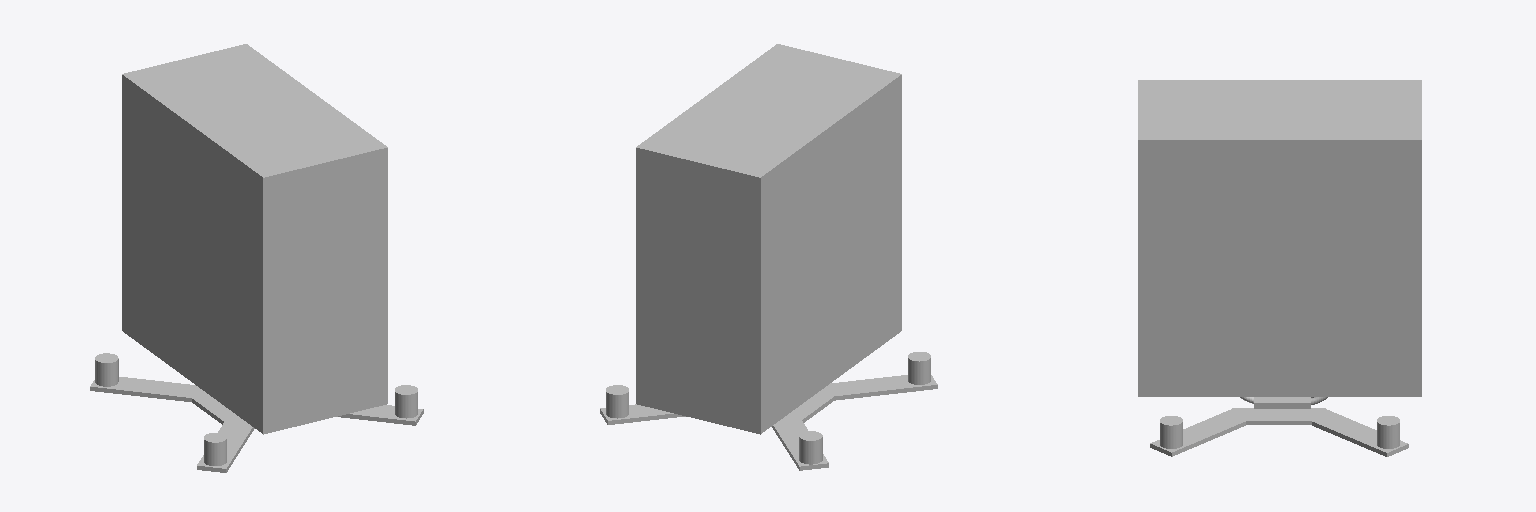
File: Cooler.obj
3 views of the same model, side by side, from view 1: azimuth 30°, elevation 25°; view 2: azimuth 150°, elevation 25°; view 3: azimuth 270°, elevation 25° (orthographic).
Visible parts, largest first — view 1: obj_0; view 2: obj_0; view 3: obj_0.
Boxes of the visible parts, box(x1,y1,x2,y2) form: obj_0: box(90, 44, 423, 472); obj_0: box(600, 44, 937, 470); obj_0: box(1138, 80, 1421, 456).
Bounding box in the file's own units: 1.12 × 1.36 × 1.2.